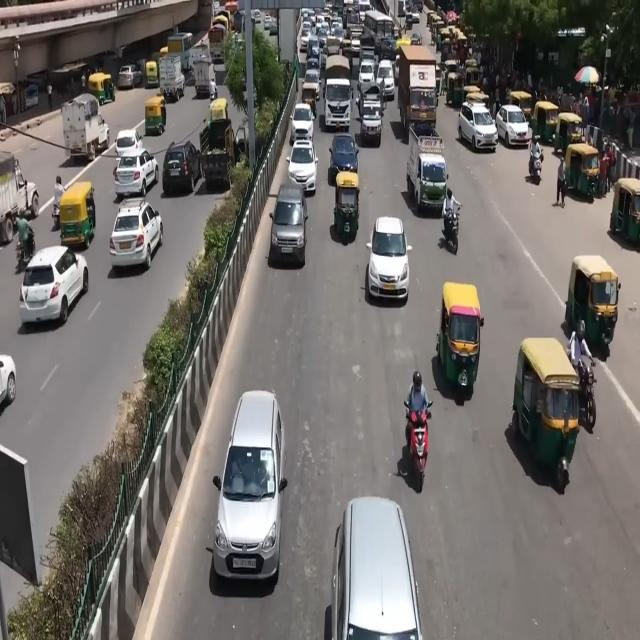auto: (512, 336, 582, 486), (566, 255, 620, 352), (436, 283, 482, 393), (58, 180, 96, 248), (609, 178, 640, 246), (564, 143, 600, 199), (332, 170, 360, 240), (554, 111, 584, 157), (532, 100, 560, 145), (88, 72, 115, 106), (145, 95, 167, 136), (445, 67, 466, 108), (509, 90, 533, 122), (301, 81, 320, 117), (448, 26, 468, 60), (462, 84, 486, 112), (464, 60, 481, 86), (432, 19, 446, 49), (145, 60, 159, 89), (426, 10, 441, 36)
bike-auto: (403, 402, 432, 490), (568, 321, 596, 388), (576, 361, 598, 433), (443, 201, 461, 255), (15, 229, 36, 272), (54, 175, 66, 226), (528, 145, 543, 181)
